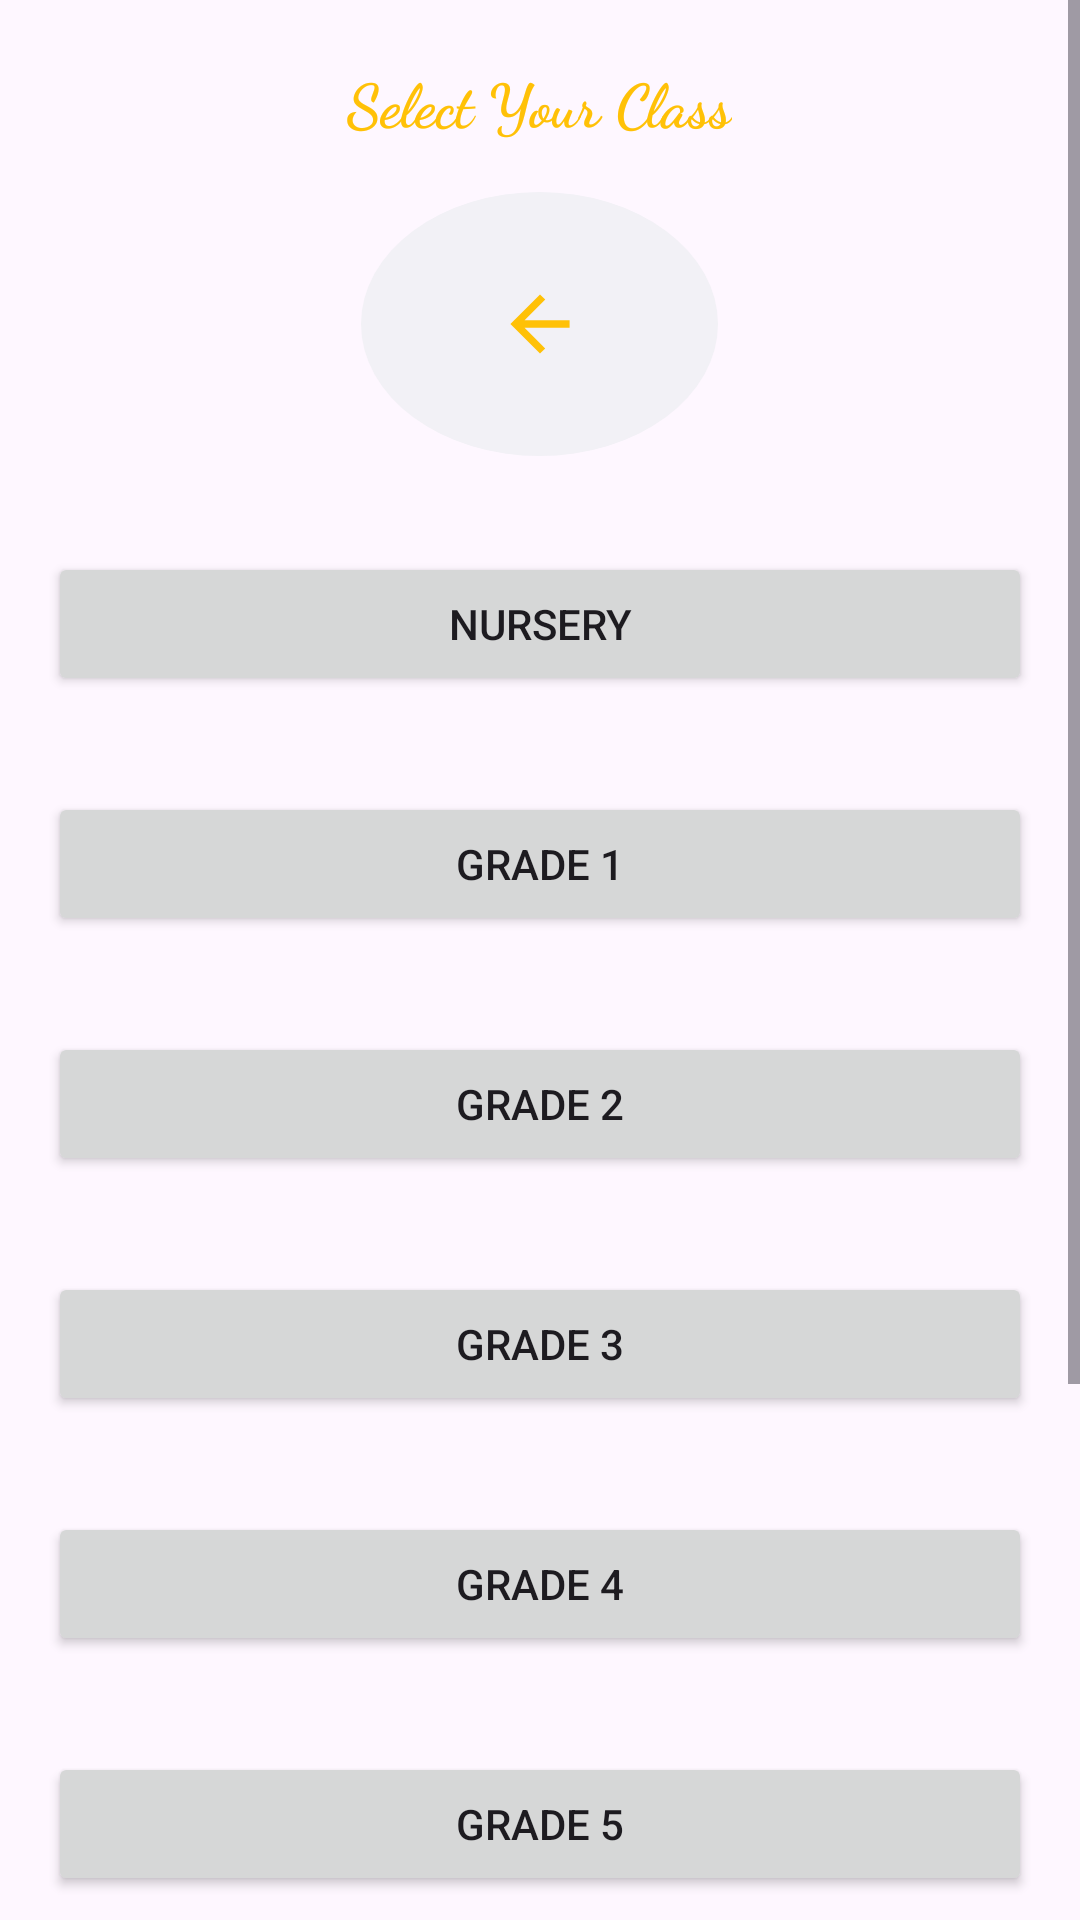

Icons on this 1080*1920 Android screen, each with its box as [x1, y1, x2, y2]:
back: [361, 192, 718, 456]
